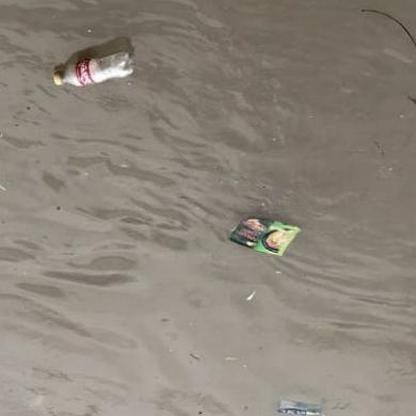plastic bag: (233, 216, 297, 255)
plastic bottle: (52, 53, 134, 86)
